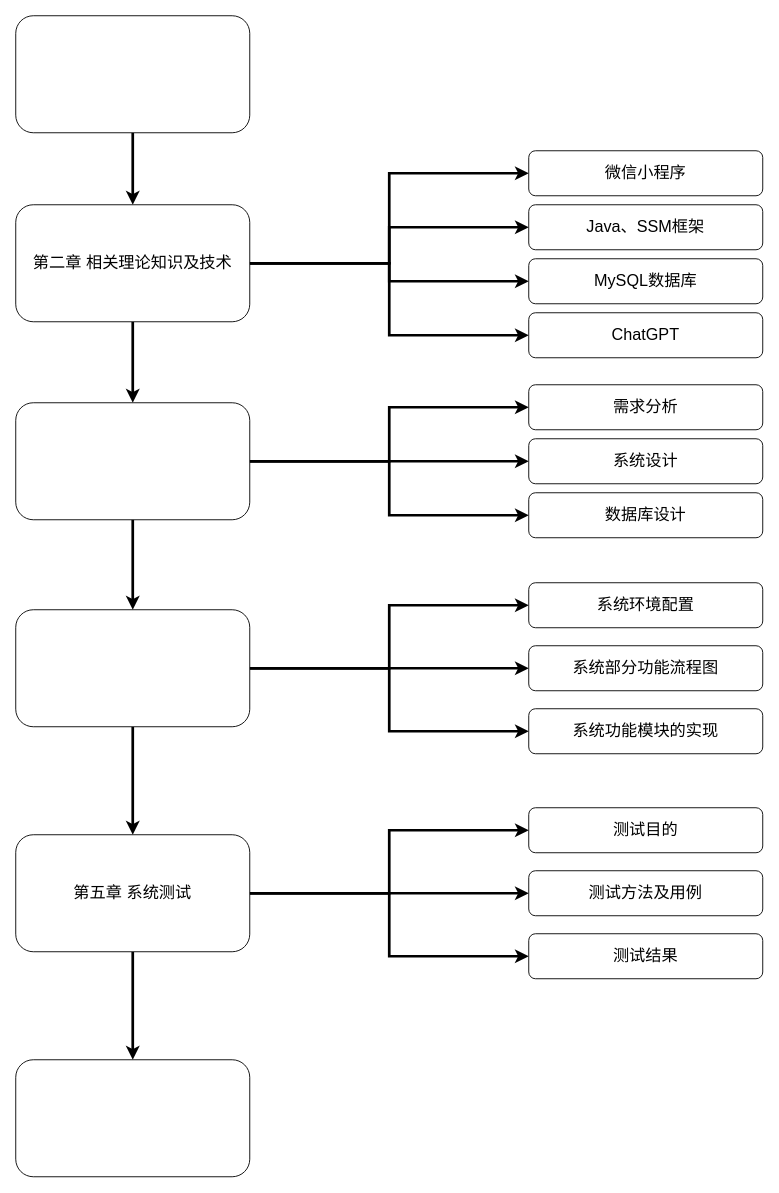
This 779x1193 diagram has some shape labels left out. The box of each missing label's shape, as (x1, y1, x2, y2) in pixels:
第一章 绪论: (15, 15, 250, 133)
第三章 相关理论知识及技术: (15, 402, 250, 520)
第六章 总结与展望: (15, 1059, 250, 1177)
第四章 系统实现: (15, 609, 250, 727)
